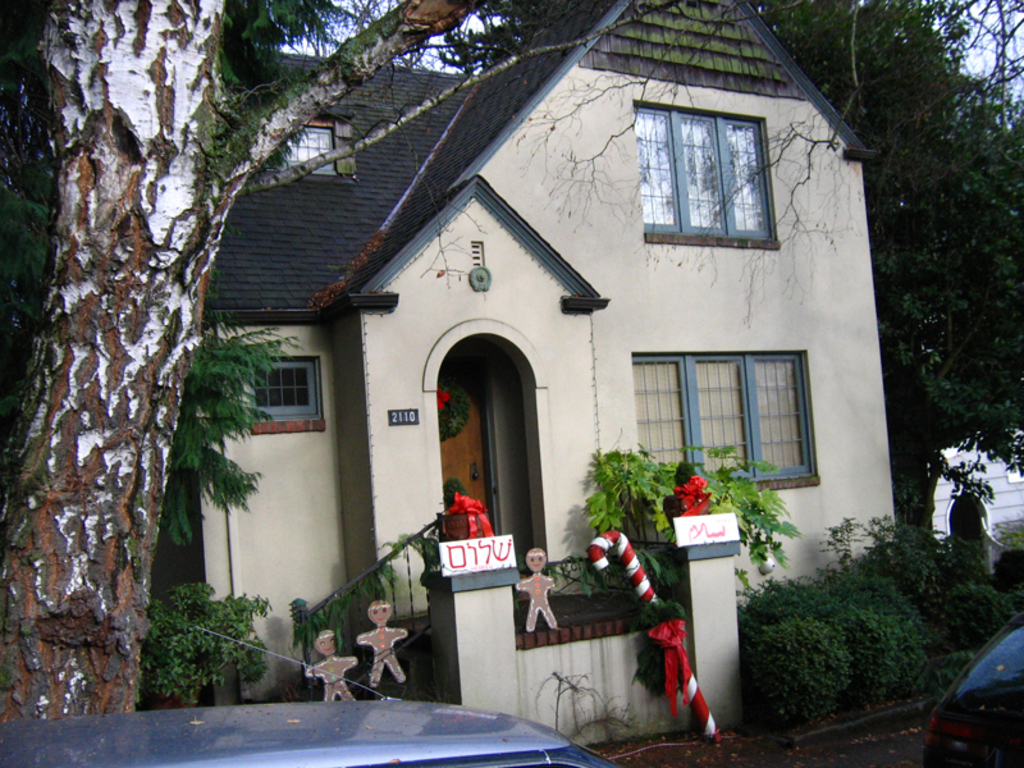Car: (2, 697, 620, 766), (928, 643, 1024, 757)
